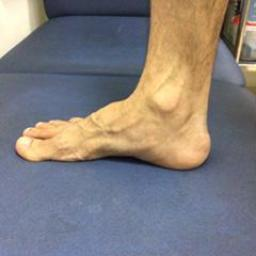Medial View -Right Foot-: (8, 46, 218, 177)
